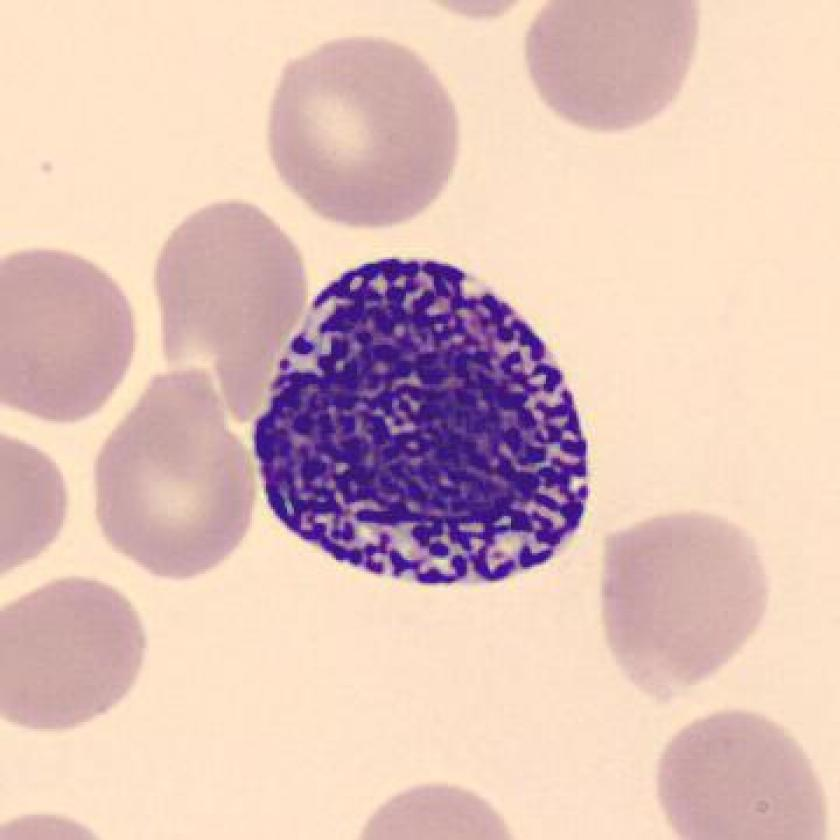basophil: (253, 249, 594, 584)
